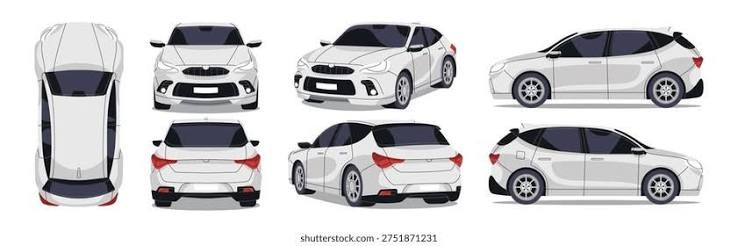car: (503, 35, 707, 150), (298, 81, 481, 199), (482, 28, 699, 110), (485, 125, 699, 205), (286, 120, 471, 209), (290, 24, 463, 111)
